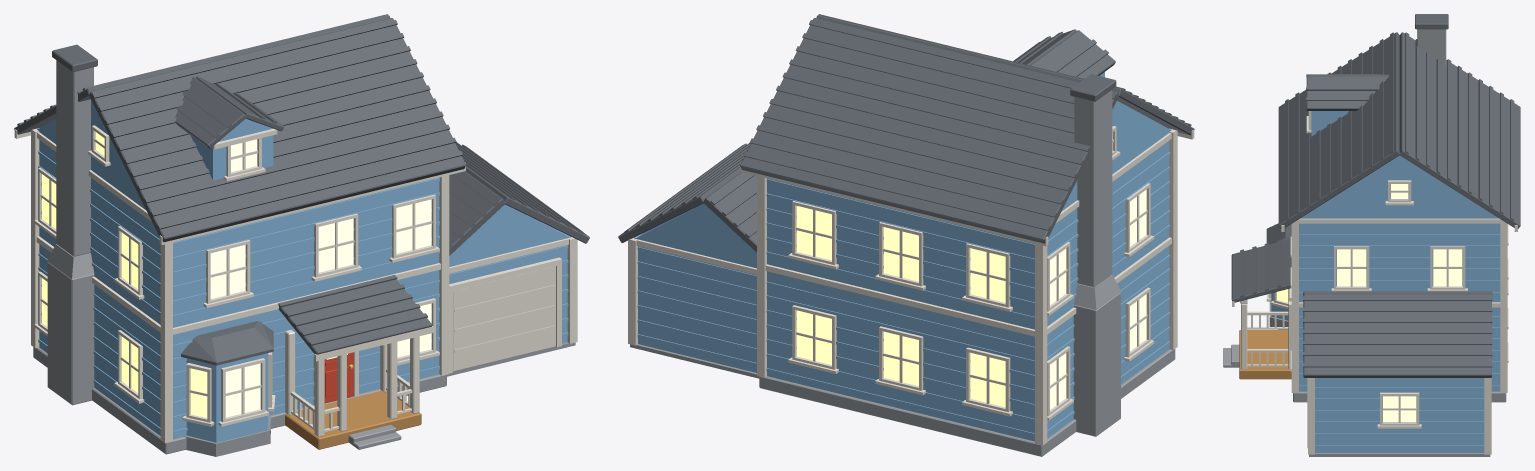
The model's file is suburban-family-house.glb.
3 renders of one model, left to right at view 1: azimuth 30°, elevation 25°; view 2: azimuth 150°, elevation 25°; view 3: azimuth 270°, elevation 25°, orthographic. The views are drawn at different scales.
Visible parts, largest first — view 1: House_Roof, House_Siding, House_Trim, House_Stone, House_Windows, GarageDoor, Porch_Deck, FrontDoor; view 2: House_Siding, House_Roof, House_Trim, House_Stone, House_Windows; view 3: House_Roof, House_Siding, House_Trim, House_Windows, House_Stone, Porch_Deck.
Boxes of the visible parts, x1,y1,x2,y2 form: House_Roof: (14,14,589,365); House_Siding: (37,100,571,442); House_Trim: (14,125,577,443); House_Stone: (33,60,575,456); House_Windows: (42,132,431,417); GarageDoor: (453,266,555,371); Porch_Deck: (285,390,421,449); FrontDoor: (324,352,353,403); House_Siding: (634,72,1171,441); House_Roof: (618,14,1194,252); House_Trim: (628,126,1194,445); House_Stone: (630,90,1175,456); House_Windows: (796,133,1146,409); House_Roof: (1231,14,1520,377); House_Siding: (1271,111,1500,452); House_Trim: (1232,111,1517,454); House_Windows: (1277,184,1462,422); House_Stone: (1223,29,1506,456); Porch_Deck: (1239,330,1291,379).
Size of the model in its own units: 52.19 by 37.4 by 37.09.
